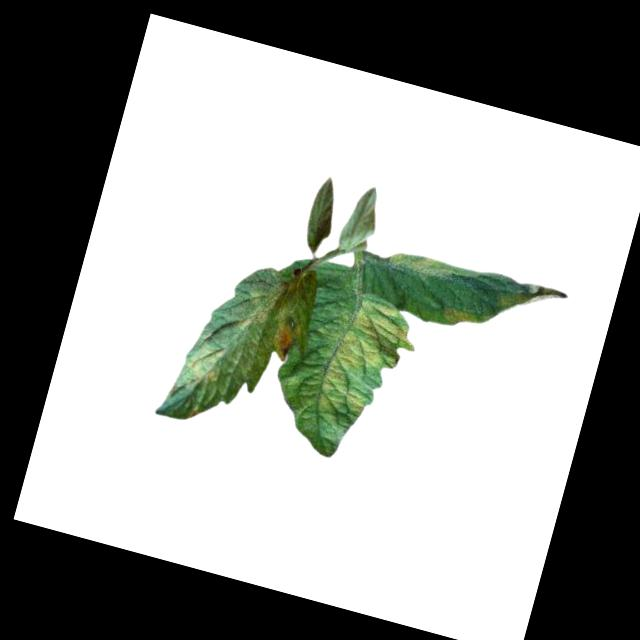Leaf_Mold: (294, 283, 425, 445), (385, 245, 480, 292), (233, 272, 295, 344), (493, 272, 573, 327), (181, 337, 229, 393), (436, 299, 488, 335), (269, 309, 304, 362)
